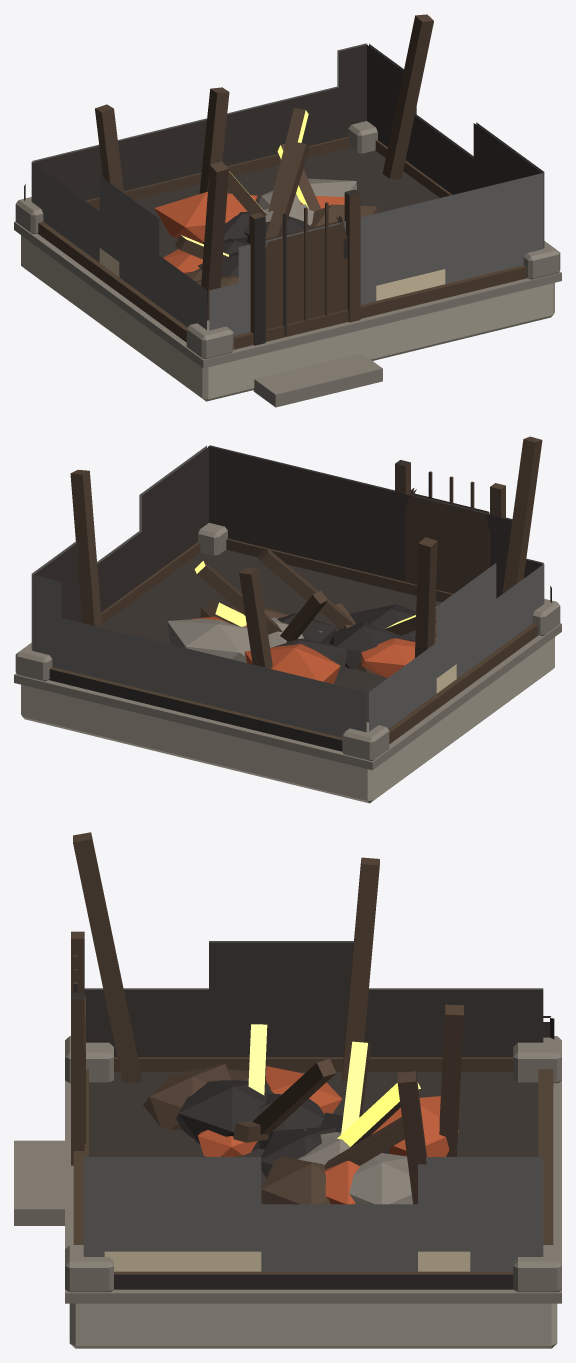
The model's file is Haus_Klein_Ruine.fbx.
3 views of the same model, one above another, from view 1: azimuth 30°, elevation 25°; view 2: azimuth 150°, elevation 25°; view 3: azimuth 270°, elevation 25° (orthographic). The views are drawn at different scales.
Parts seen in each view (by area): view 1: Haus_Klein_Ruine; view 2: Haus_Klein_Ruine; view 3: Haus_Klein_Ruine.
Boxes of the visible parts, box(x1,y1,x2,y2) form: Haus_Klein_Ruine: box(14, 14, 561, 407); Haus_Klein_Ruine: box(14, 436, 561, 803); Haus_Klein_Ruine: box(14, 832, 561, 1348).
Bounding box in the file's own units: 4.68 × 2.88 × 4.72.
